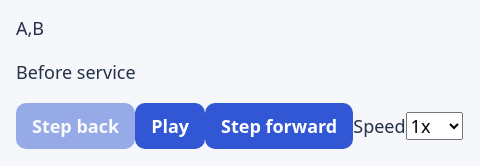
Test: shared module shell and snapshot playback › replays arbitrary queue snapshots without executing or changing the data
Click the button "Play" at (170, 126), box left=135, top=103, right=205, bottom=149
Wait 1200 ms
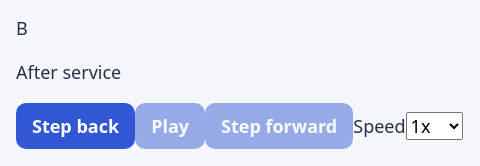
Now the text "After service" is shown, box left=16, top=60, right=121, bottom=84
Click the button "Step back" at (76, 126), box left=16, top=103, right=135, bottom=149
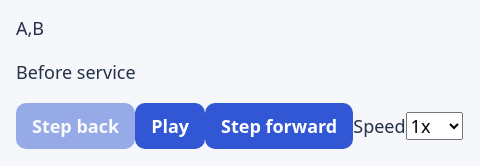
Now the text "A,B" is shown, box left=16, top=16, right=44, bottom=40
